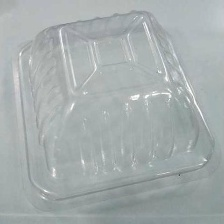plastic_box: (5, 3, 223, 219)
